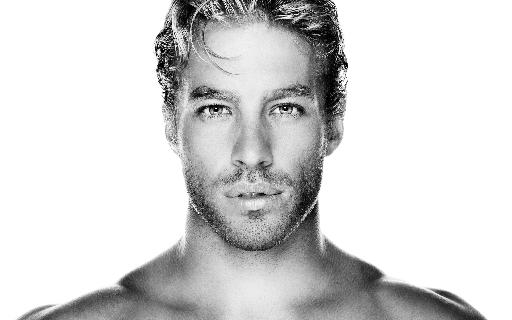left_eye: (269, 102, 310, 119)
left_lip_corner: (270, 186, 288, 199)
right_eye: (193, 103, 235, 121)
right_lip_corner: (224, 190, 237, 203)
